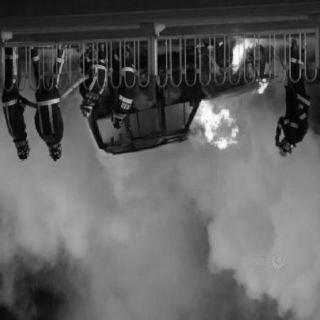Fire: (198, 37, 276, 163)
Smoke: (12, 157, 320, 319)
